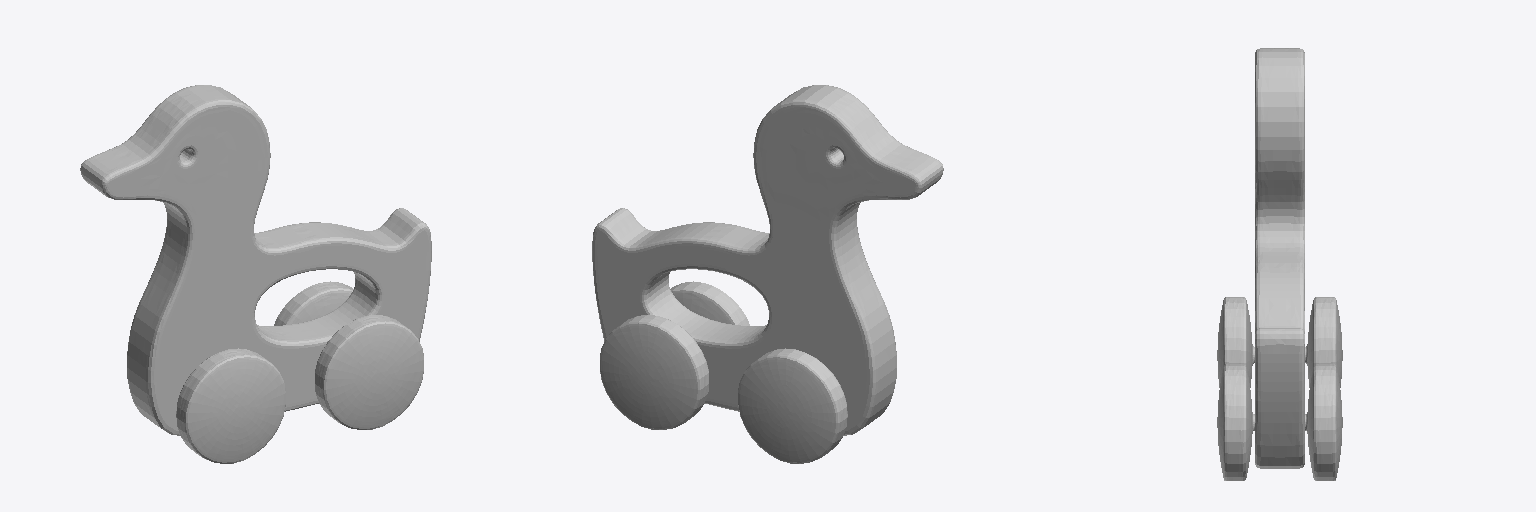
The model's file is defaultMaterial.obj.
The picture shows the model from 3 angles: view 1: azimuth 30°, elevation 25°; view 2: azimuth 150°, elevation 25°; view 3: azimuth 270°, elevation 25°; orthographic projection.
Visible parts, largest first — view 1: defaultMaterial; view 2: defaultMaterial; view 3: defaultMaterial.
Boxes of the visible parts, x1=… form: defaultMaterial: x1=80, y1=85, x2=431, y2=463; defaultMaterial: x1=592, y1=85, x2=943, y2=463; defaultMaterial: x1=1217, y1=48, x2=1342, y2=480.
Bounding box in the file's own units: 562 × 571 × 185.